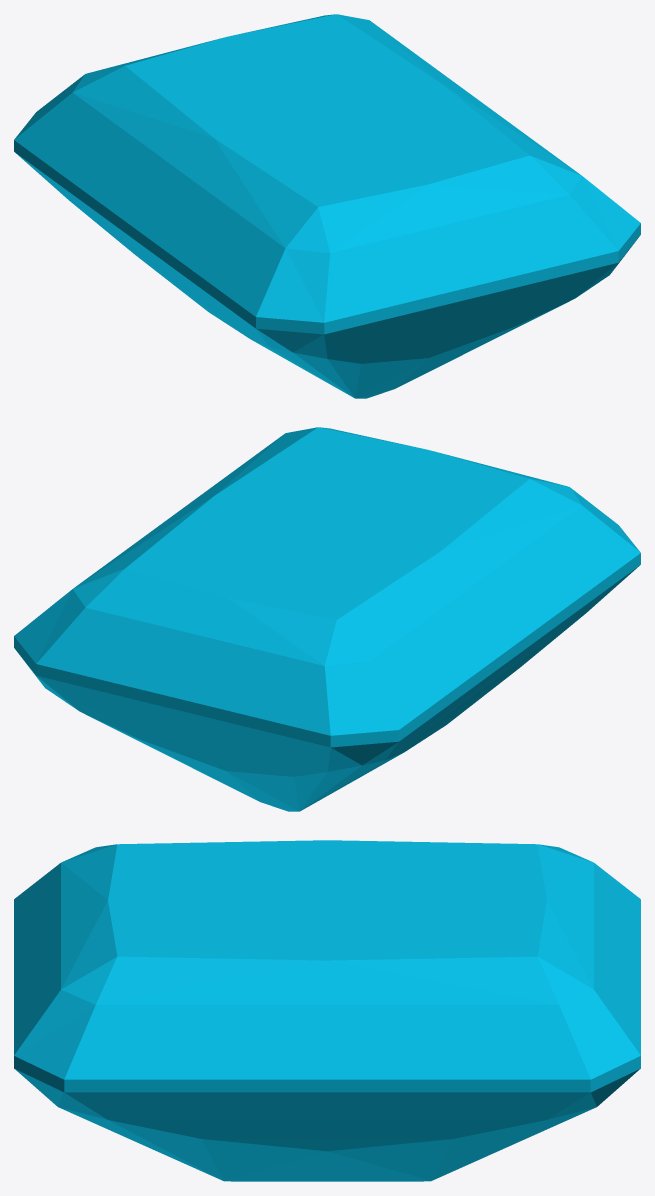
File: Head_No Halo_Radiant_1.5ct_Diamond.glb
The picture shows the model from 3 angles, top to bottom: view 1: azimuth 30°, elevation 25°; view 2: azimuth 150°, elevation 25°; view 3: azimuth 270°, elevation 25°; orthographic projection. The views are drawn at different scales.
Bounding box in the file's own units: 0.00577 × 0.00371 × 0.00748.
